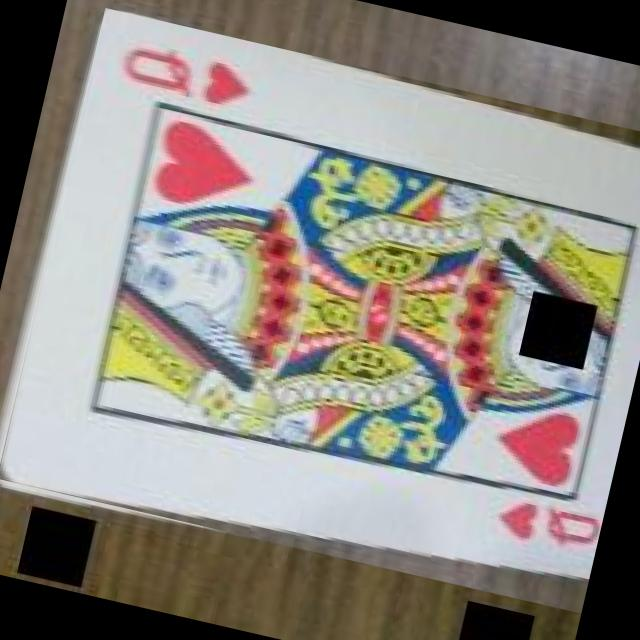Queen of hearts: (0, 9, 640, 579)
